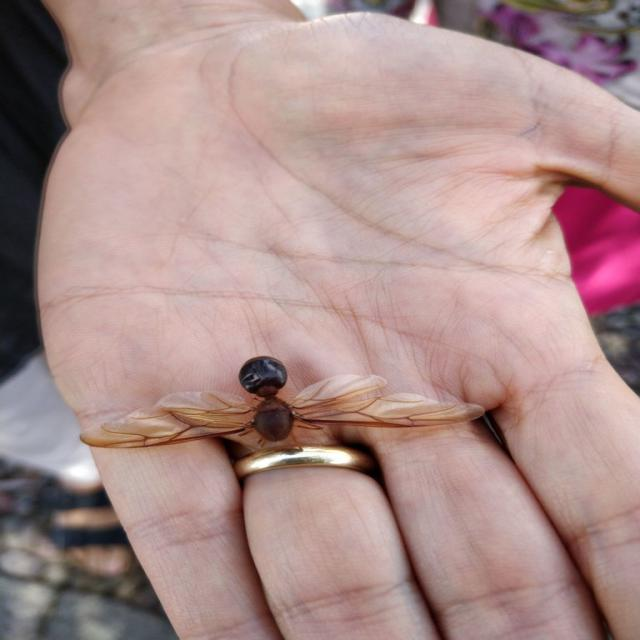Dead-Female-Alate: (78, 355, 486, 453)
